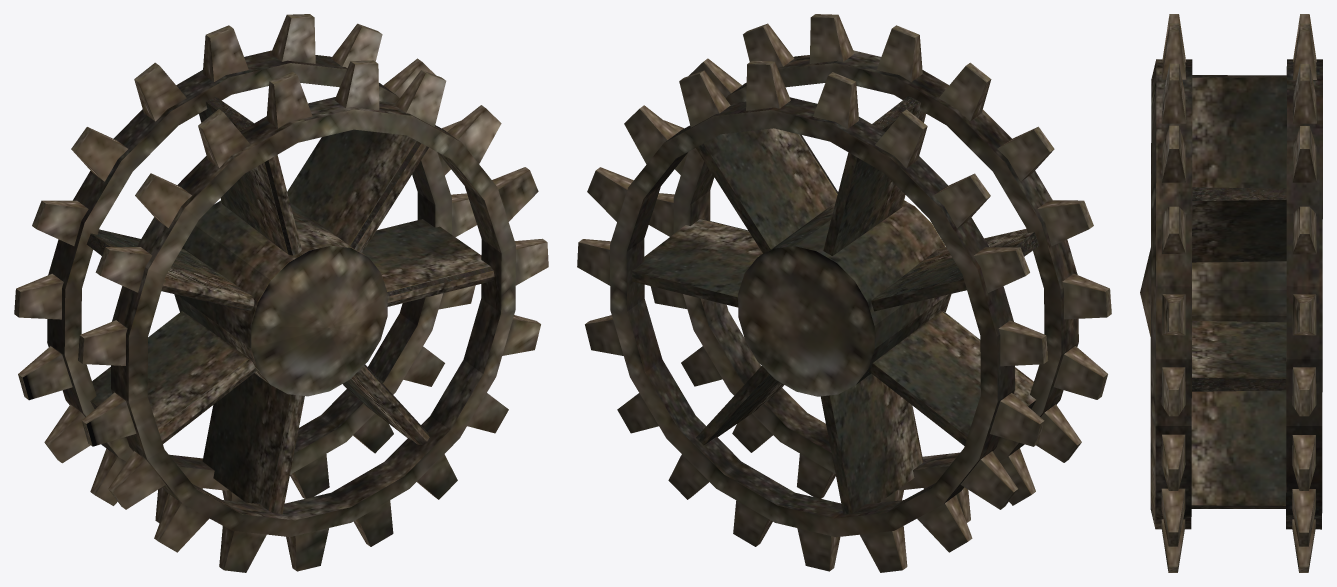
The model's file is blw.obj.
The picture shows the model from 3 angles, left to right: view 1: azimuth 30°, elevation 25°; view 2: azimuth 150°, elevation 25°; view 3: azimuth 270°, elevation 25°; orthographic projection. The views are drawn at different scales.
Parts seen in each view (by area): view 1: back_l_Wheel_Wheel.003; view 2: back_l_Wheel_Wheel.003; view 3: back_l_Wheel_Wheel.003.
Part boxes in pixels (left/top/right/bottom): back_l_Wheel_Wheel.003: left=14, top=14, right=548, bottom=572; back_l_Wheel_Wheel.003: left=577, top=14, right=1111, bottom=572; back_l_Wheel_Wheel.003: left=1140, top=14, right=1322, bottom=572.
Bounding box in the file's own units: 1.47 × 1.49 × 0.4867.
1 material, 1 textured.
